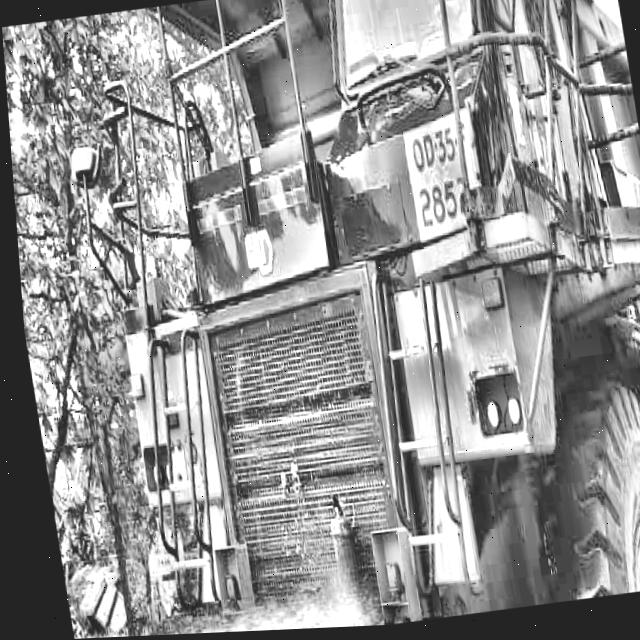dump_truck: (71, 0, 640, 638)
